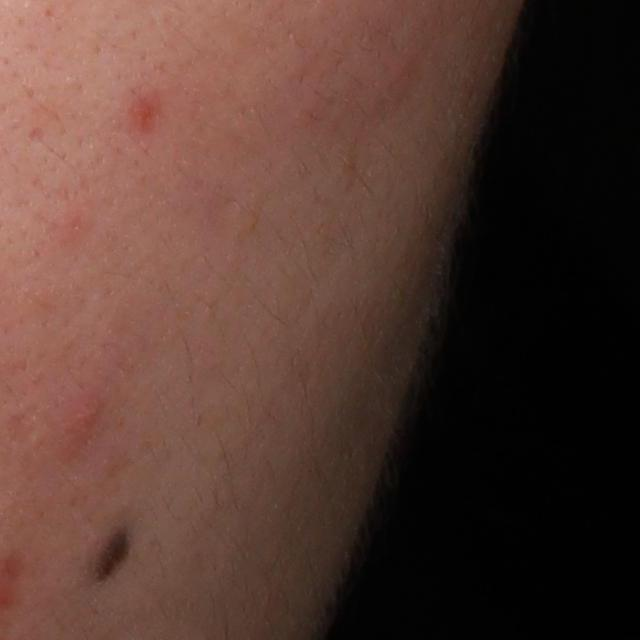nevus: (86, 519, 133, 586)
papule: (61, 390, 109, 448)
